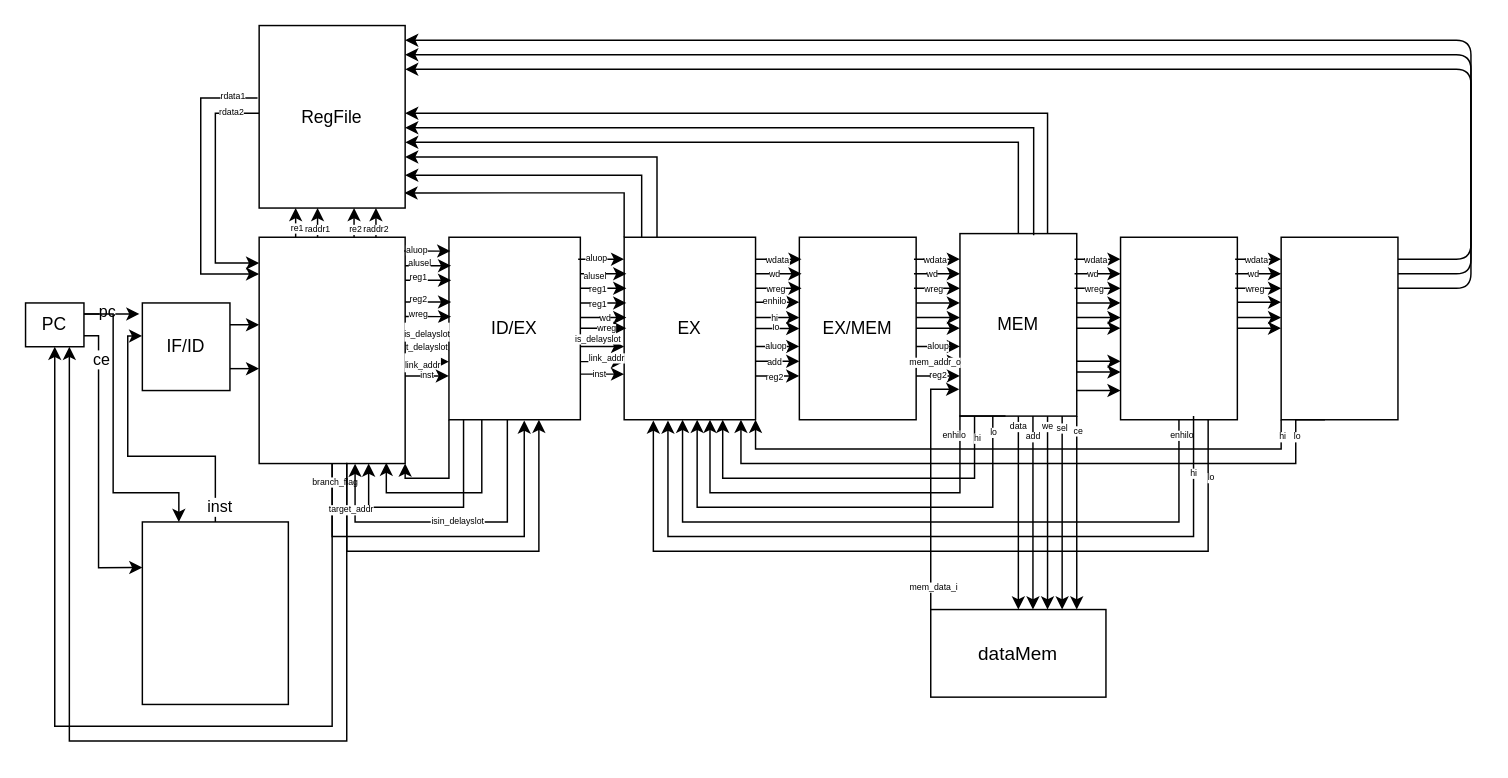
The diagram is 1508 pixels wide and 778 high, and some of its shapes have lost their labels. Each missing label, with the centre of its shape:
"HILO" goes at point (1339, 328).
"ID" goes at point (331, 350).
"InsMem" goes at point (214, 612).
"MEM/WB" goes at point (1178, 328).
